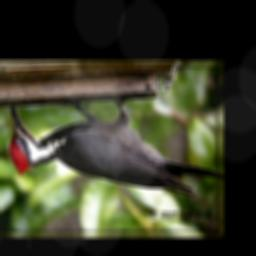Woodpecker: (8, 97, 223, 197)
